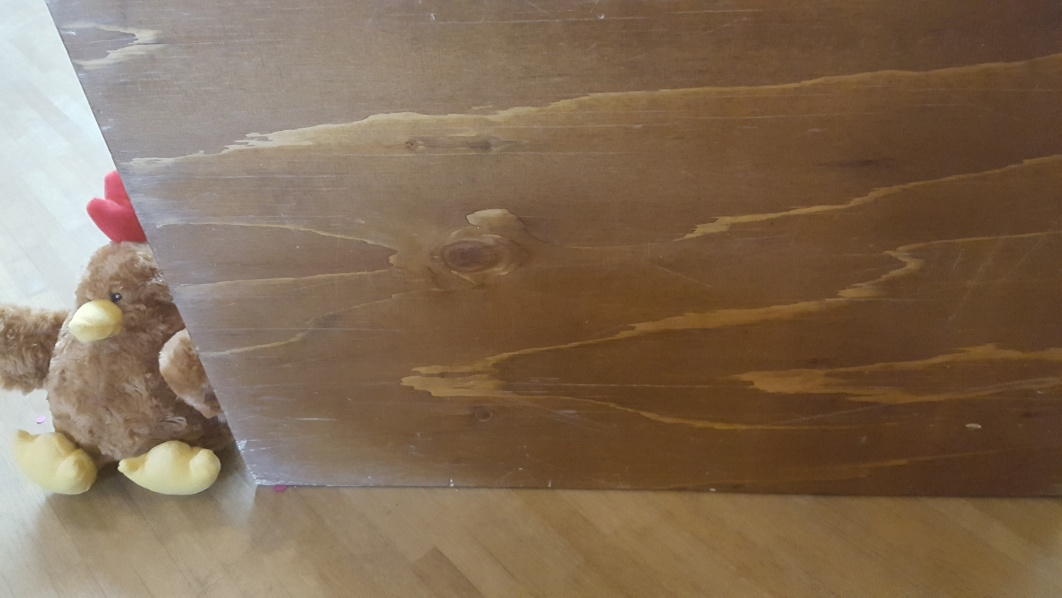chicken: (1, 168, 222, 496)
